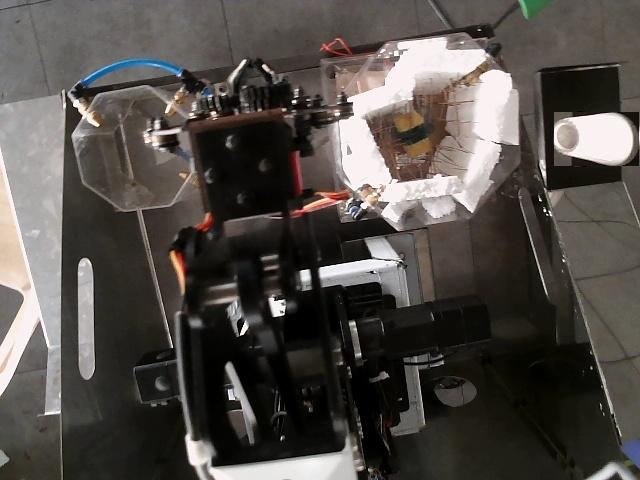cup: (554, 112, 639, 166)
